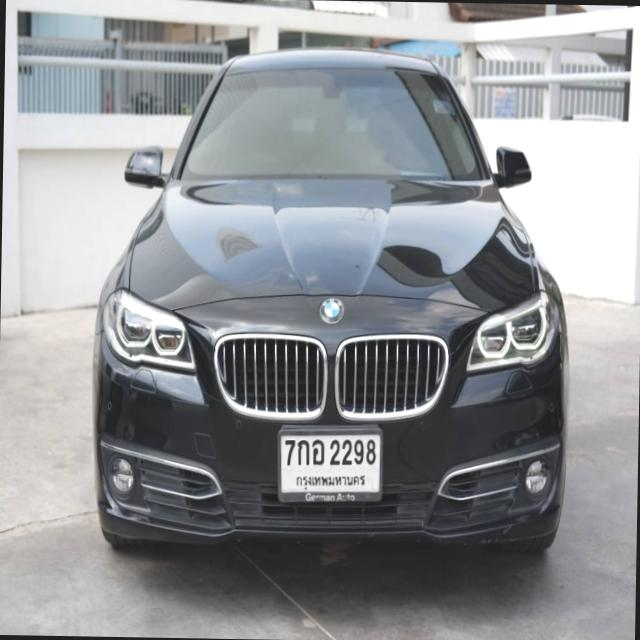license_plate: (276, 424, 383, 504)
